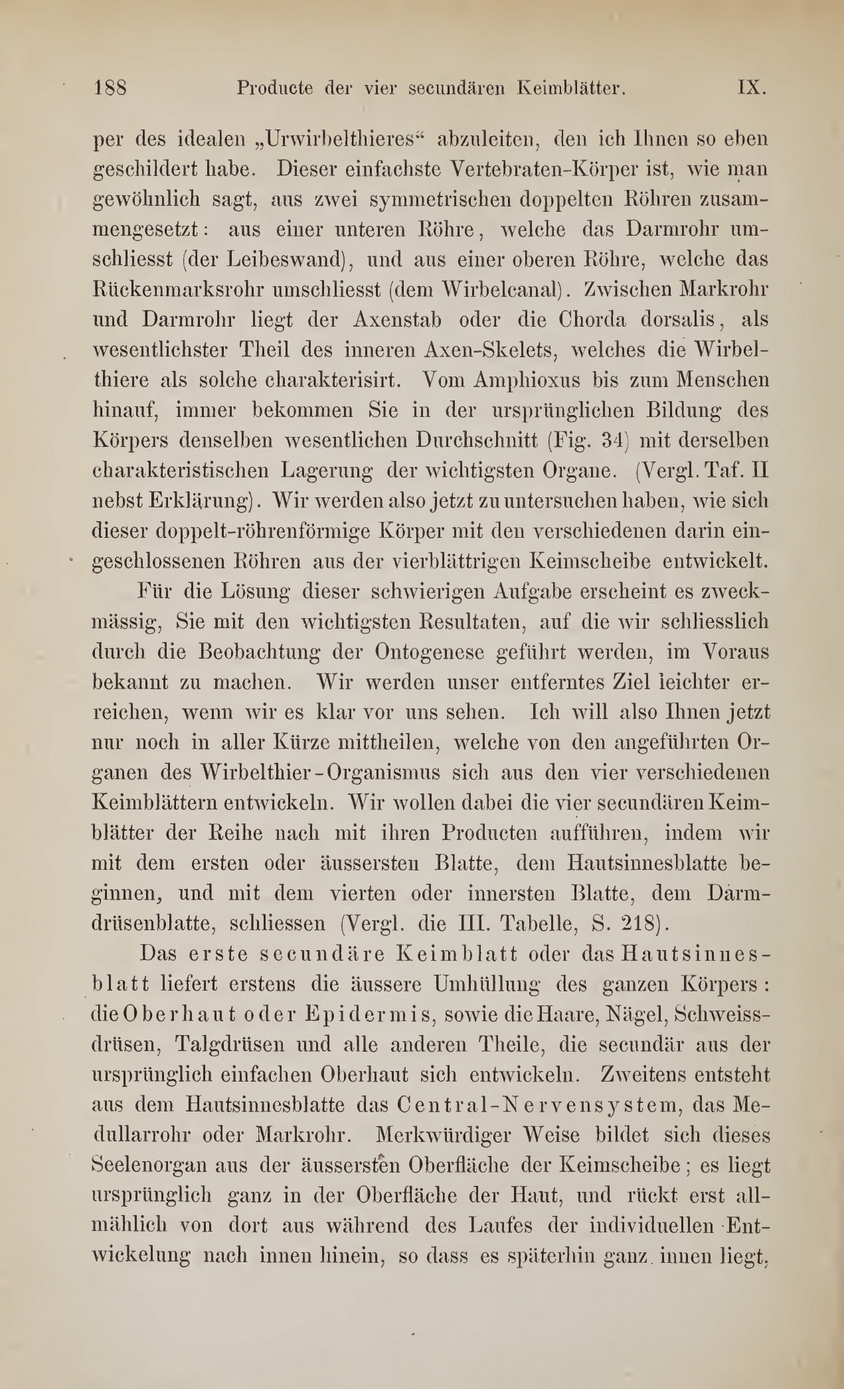MainZone: (70, 120, 788, 1284)
NumberingZone chapter: (717, 66, 775, 106)
NumberingZone_page: (76, 70, 150, 111)
RunningTitleZone: (219, 70, 634, 109)
